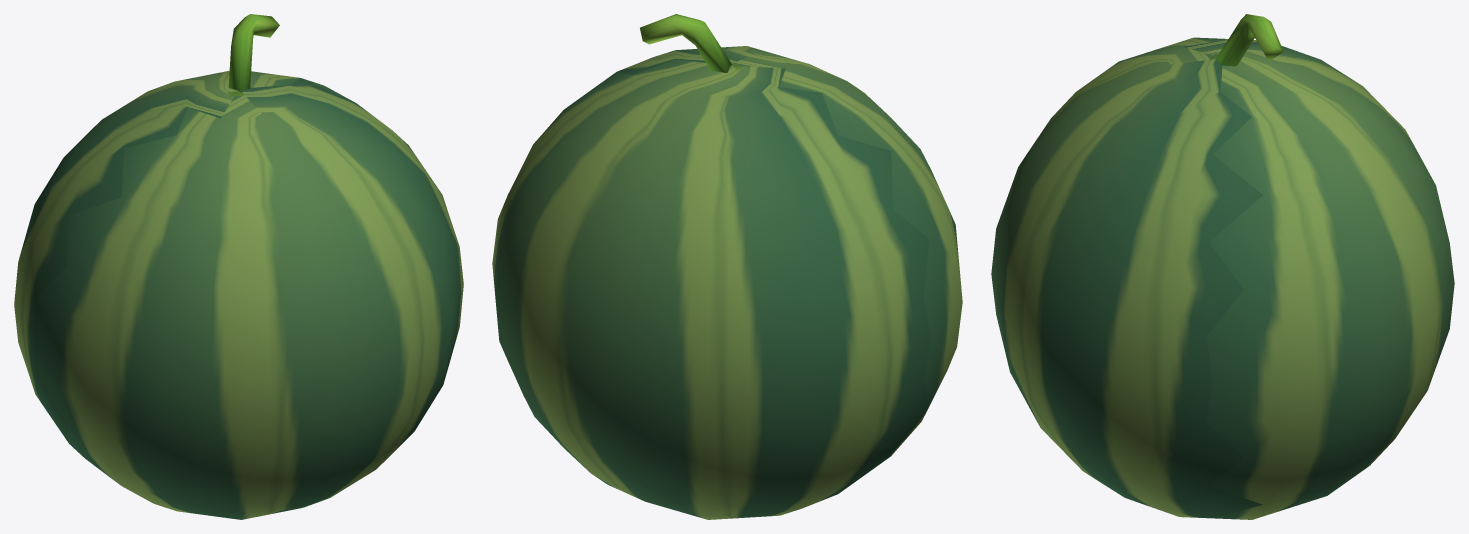
The model's file is NP_Watermelon_Harvest_LOD1.fbx.
The picture shows the model from 3 angles, left to right: view 1: azimuth 30°, elevation 25°; view 2: azimuth 150°, elevation 25°; view 3: azimuth 270°, elevation 25°; orthographic projection. The views are drawn at different scales.
Visible parts, largest first — view 1: NP_Watermelon_Harvest; view 2: NP_Watermelon_Harvest; view 3: NP_Watermelon_Harvest.
Boxes of the visible parts, box(x1,y1,x2,y2) form: NP_Watermelon_Harvest: box(14, 14, 463, 519); NP_Watermelon_Harvest: box(492, 14, 962, 519); NP_Watermelon_Harvest: box(991, 14, 1454, 519).
Bounding box in the file's own units: 39.15 × 44.07 × 37.15.
